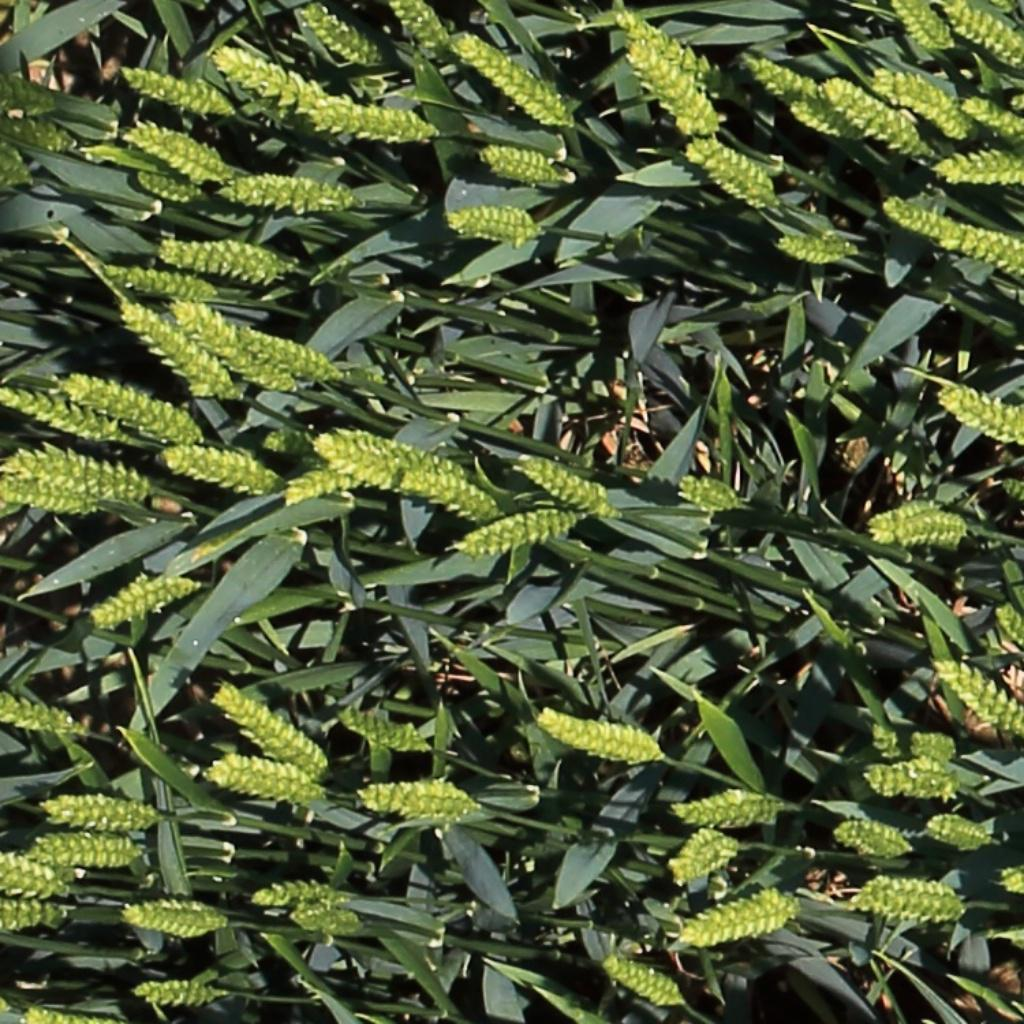0-0: (111, 298, 233, 403), (214, 672, 332, 776), (311, 418, 473, 487), (453, 34, 567, 125), (60, 374, 202, 447), (622, 38, 717, 135), (824, 76, 930, 162), (611, 8, 718, 84), (530, 703, 663, 763), (159, 236, 295, 292), (6, 445, 145, 499), (296, 93, 444, 143), (684, 137, 782, 212), (873, 66, 974, 138), (683, 887, 796, 951), (454, 507, 583, 563), (516, 456, 623, 523), (934, 662, 1024, 740), (114, 66, 238, 121), (877, 184, 980, 248), (159, 447, 280, 501), (232, 324, 345, 380), (88, 574, 198, 630), (936, 384, 1024, 454), (851, 876, 965, 928), (1, 387, 114, 439), (206, 753, 328, 801), (215, 49, 319, 105), (121, 122, 225, 178), (357, 777, 483, 821), (944, 1, 1024, 69), (294, 2, 378, 66), (222, 172, 350, 214), (941, 216, 1024, 277), (866, 500, 969, 549), (40, 793, 161, 831), (249, 421, 342, 468), (123, 899, 226, 941), (1, 847, 85, 898), (671, 790, 785, 827), (858, 763, 957, 805), (444, 204, 544, 245), (398, 476, 495, 518), (387, 0, 453, 61), (600, 955, 682, 1004), (1, 478, 95, 520), (479, 143, 570, 186), (99, 264, 210, 299), (34, 832, 145, 867), (961, 94, 1024, 154), (0, 114, 84, 159), (744, 55, 824, 102), (666, 828, 735, 882), (337, 709, 423, 752), (932, 148, 1024, 186), (832, 819, 912, 861), (247, 877, 352, 907), (924, 810, 998, 852), (776, 225, 854, 264), (894, 0, 951, 53), (789, 96, 861, 137), (0, 697, 76, 733), (129, 980, 226, 1007), (0, 72, 57, 114), (131, 167, 199, 202), (281, 472, 356, 502), (675, 476, 740, 510), (903, 731, 960, 768), (288, 906, 360, 934), (992, 602, 1024, 663), (1, 899, 59, 928), (868, 718, 904, 763), (23, 1006, 116, 1023)
